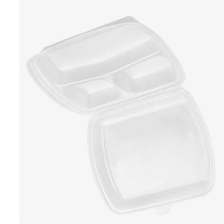foam_box: (21, 11, 222, 224)
